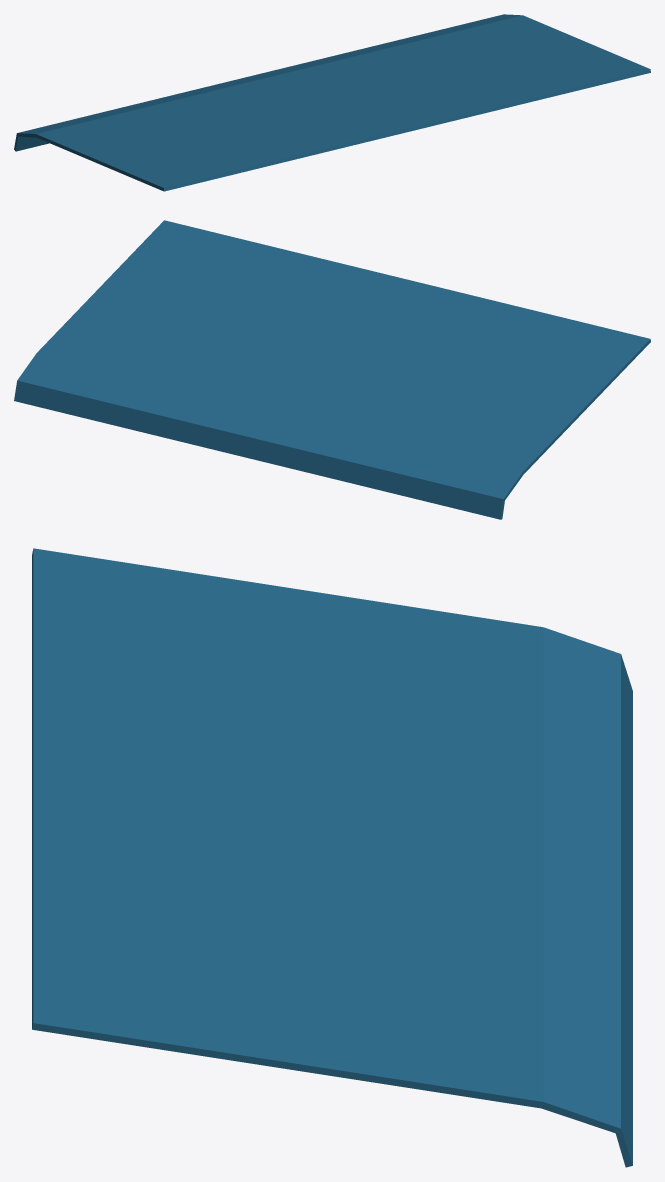
File: 2107_Leed.fbx
3 renders of one model, top to bottom at view 1: azimuth 30°, elevation 25°; view 2: azimuth 150°, elevation 25°; view 3: azimuth 270°, elevation 25°, orthographic. The views are drawn at different scales.
Parts seen in each view (by area): view 1: bagazhnik; view 2: bagazhnik; view 3: bagazhnik.
Part boxes in pixels (left/top/right/bottom): bagazhnik: left=14, top=14, right=650, bottom=191; bagazhnik: left=14, top=220, right=650, bottom=519; bagazhnik: left=32, top=548, right=632, bottom=1167.
Bounding box in the file's own units: 150 × 21.26 × 80.23.
